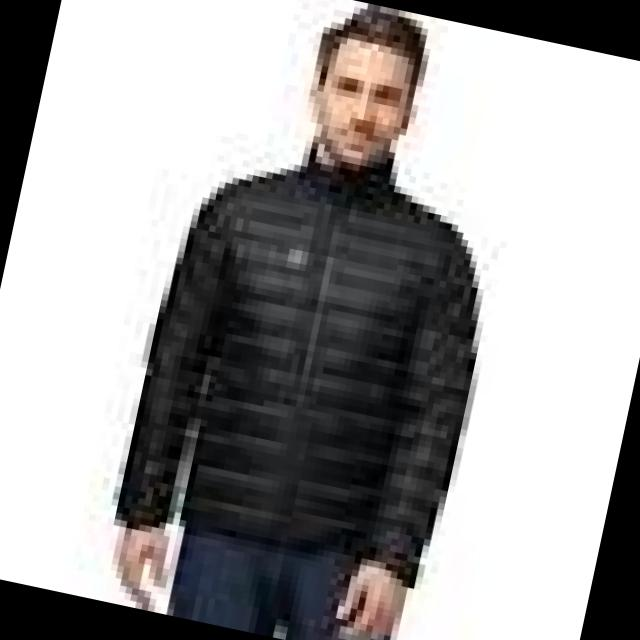Jacket: (82, 104, 550, 588)
